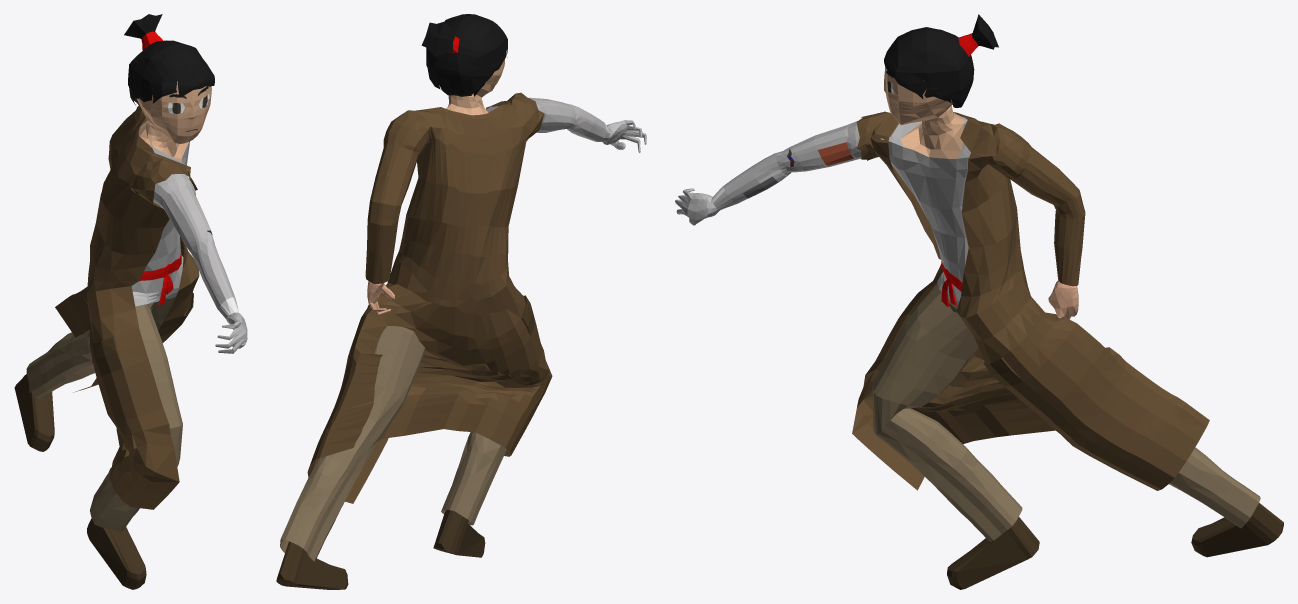
Rendered from OneAnimationTest_000005.obj.
3 views of the same model, side by side, from view 1: azimuth 30°, elevation 25°; view 2: azimuth 150°, elevation 25°; view 3: azimuth 270°, elevation 25° (orthographic). The views are drawn at different scales.
Parts seen in each view (by area): view 1: Jacket_Cube, Body_Cube.003, Hair_Cube.004; view 2: Jacket_Cube, Body_Cube.003, Hair_Cube.004; view 3: Jacket_Cube, Body_Cube.003, Hair_Cube.004.
Part boxes in pixels (x1,y1,x2,y2): Jacket_Cube: (55,106,199,509); Body_Cube.003: (14,81,247,589); Hair_Cube.004: (124,14,214,105); Jacket_Cube: (307,92,552,503); Body_Cube.003: (276,59,646,589); Hair_Cube.004: (421,14,507,96); Jacket_Cube: (852,111,1209,490); Body_Cube.003: (675,68,1283,589); Hair_Cube.004: (884,14,998,107).
Bounding box in the file's own units: 0.8966 × 3.65 × 3.46.
